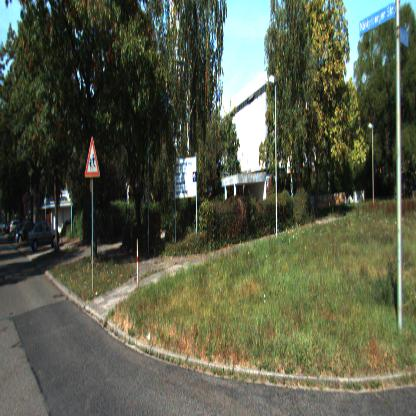car: (22, 222, 62, 254)
